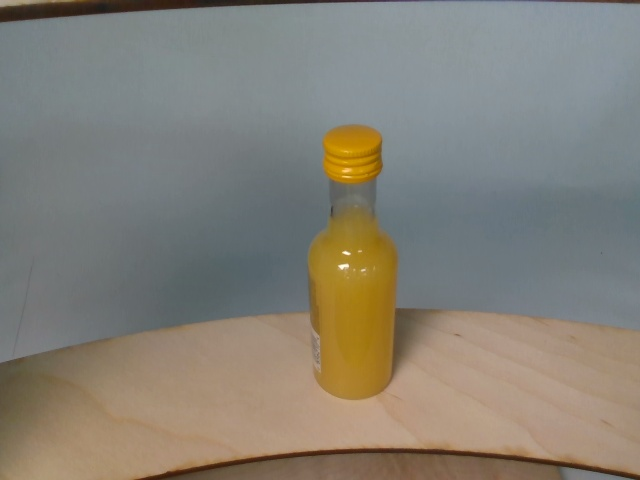orange_juice: (307, 125, 400, 399)
